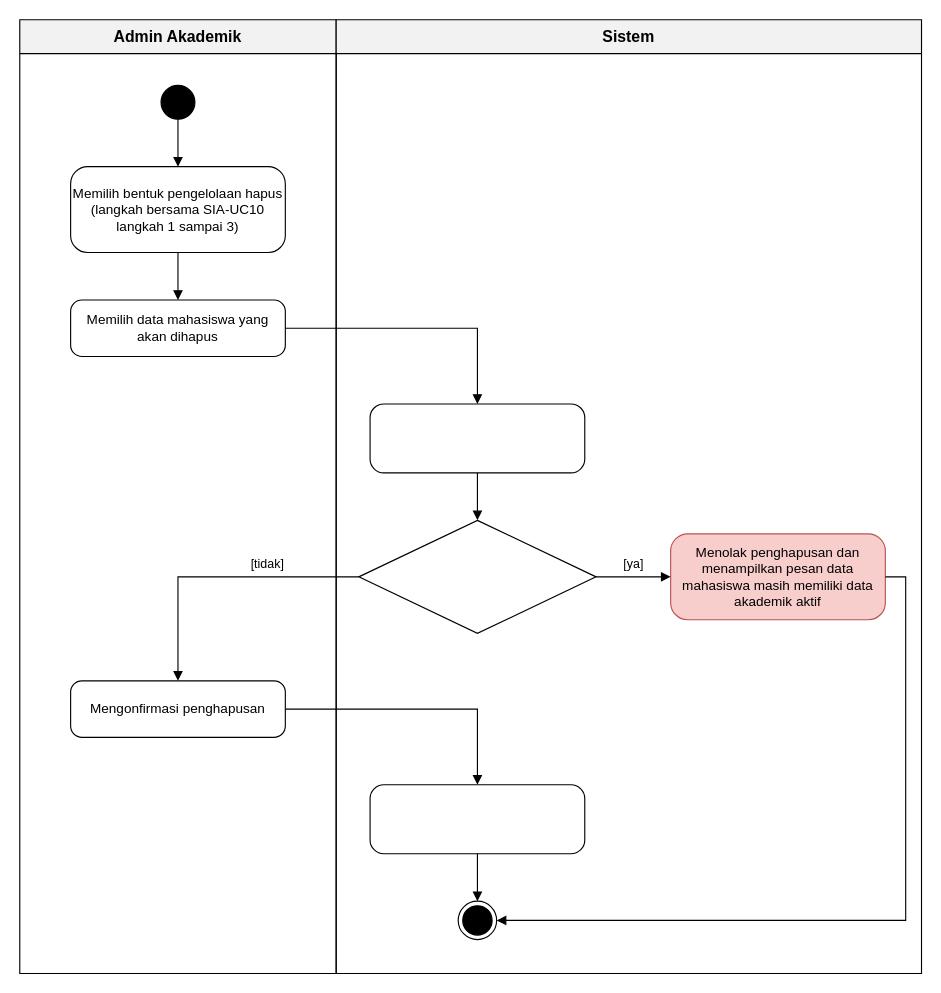
Some shapes in this 941 by 993 pixel diagram are drawn without their labels. Each missing label, with the centre of its shape:
Mahasiswa memiliki data akademik aktif?: the point at 477,576
Memeriksa mahasiswa tidak memiliki data akademik aktif: the point at 477,438
Menghapus data mahasiswa dan menampilkan konfirmasi penghapusan: the point at 477,819
